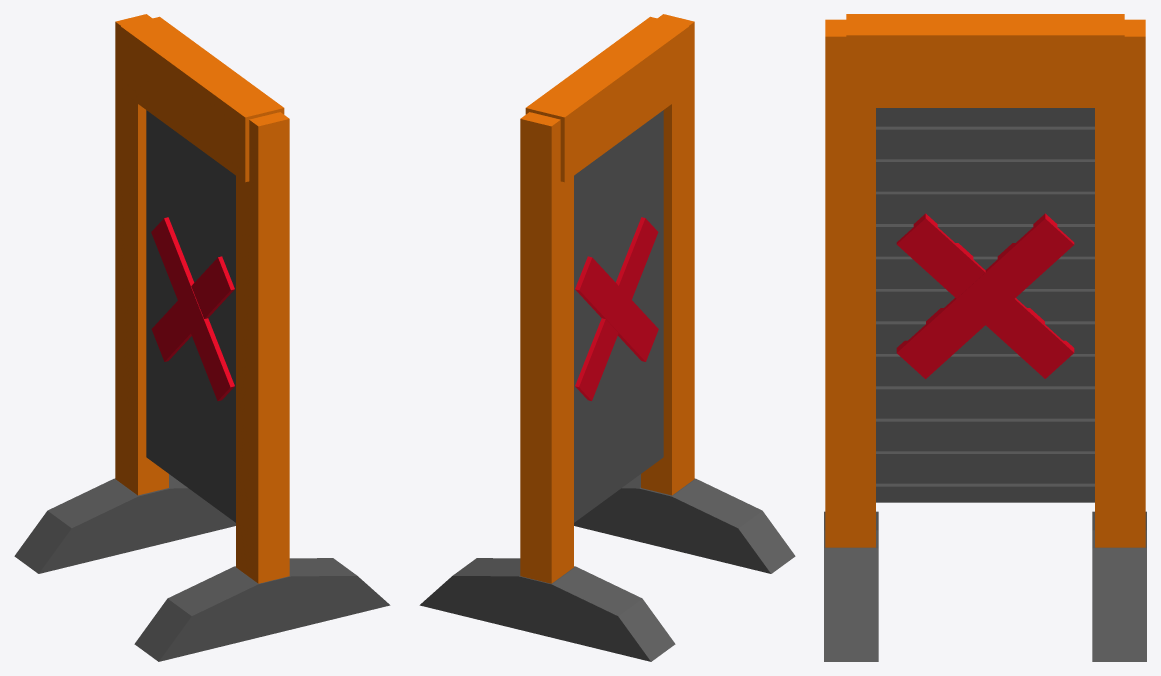
Rendered from obstacle1.fbx.
The picture shows the model from 3 angles, left to right: view 1: azimuth 30°, elevation 25°; view 2: azimuth 150°, elevation 25°; view 3: azimuth 270°, elevation 25°; orthographic projection. The views are drawn at different scales.
Visible parts, largest first — view 1: Cube.001, Cube, Cube.004; view 2: Cube.001, Cube, Cube.004; view 3: Cube, Cube.001, Cube.004.
Part boxes in pixels (box(x1,y1,x2,y2)): Cube.001: box(115, 14, 289, 583); Cube: box(14, 110, 390, 661); Cube.004: box(151, 217, 234, 400); Cube.001: box(520, 14, 694, 583); Cube: box(419, 110, 795, 661); Cube.004: box(575, 217, 658, 400); Cube: box(824, 108, 1146, 661); Cube.001: box(825, 14, 1145, 547); Cube.004: box(896, 213, 1074, 379).
Bounding box in the file's own units: 402 × 851 × 433.
